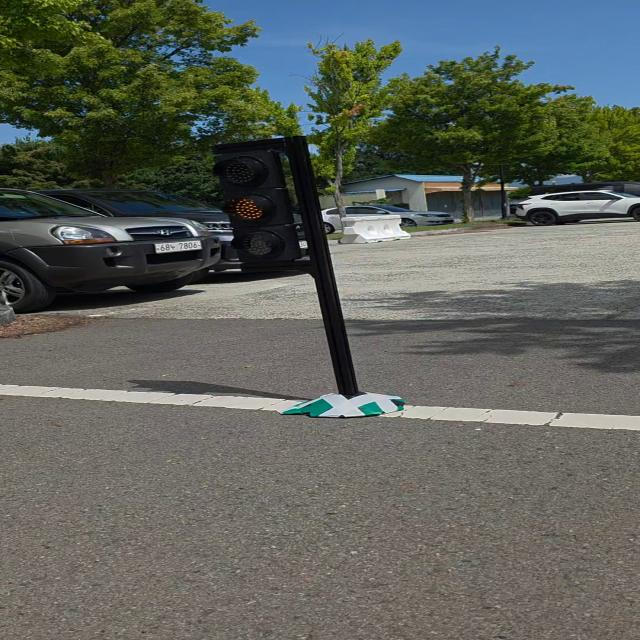yellow: (209, 146, 307, 268)
